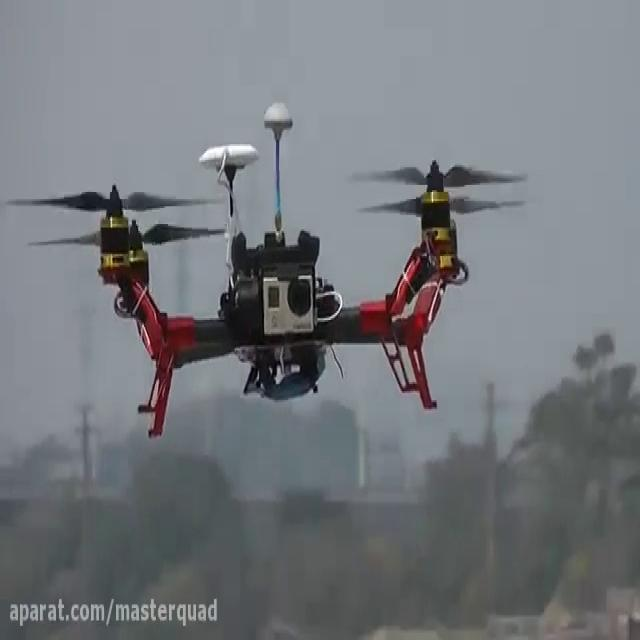drone: (1, 91, 530, 441)
